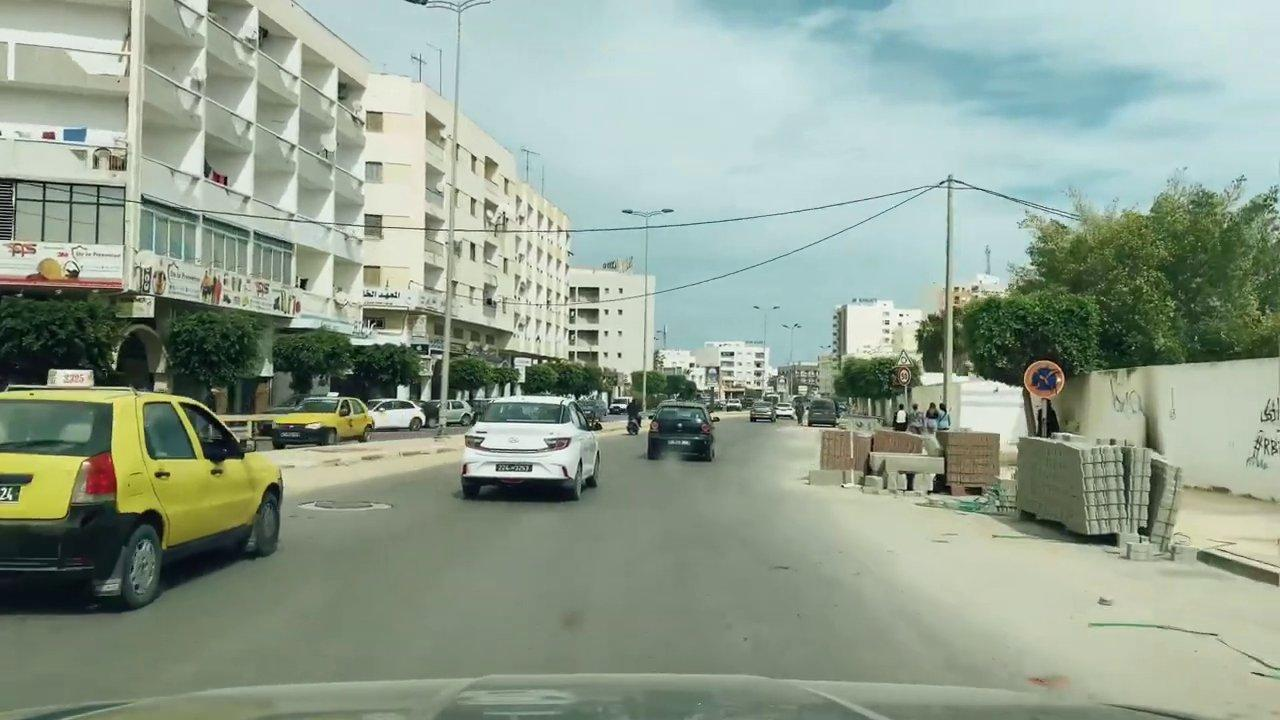no stopping: (1023, 361, 1066, 400)
roundabout: (893, 348, 914, 369)
speed limit 50: (897, 368, 914, 386)
